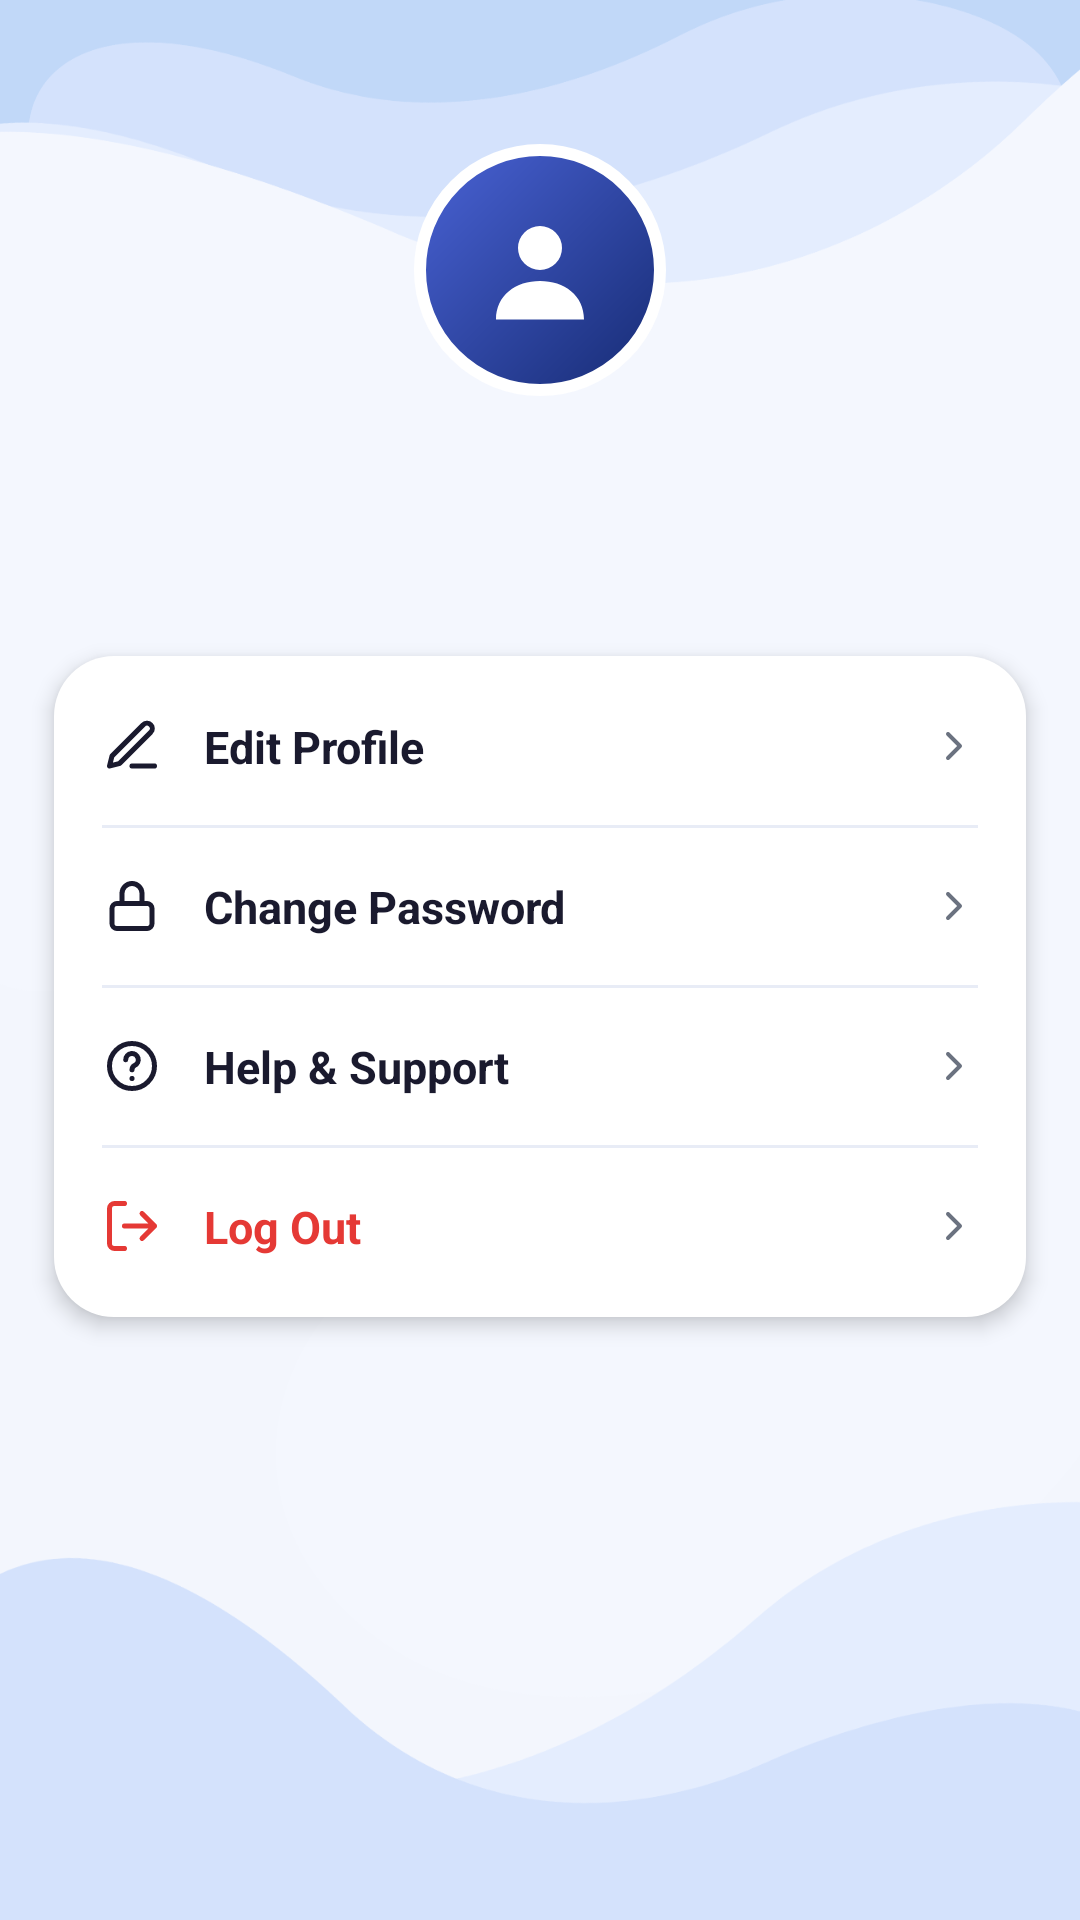

Icons on this 1080px x 1920px Android screen, each with the point to tap as (x,y):
Avatar: (540,270)
chevron: (954,746), (954,906), (954,1066), (954,1226)
lock: (132,906)
